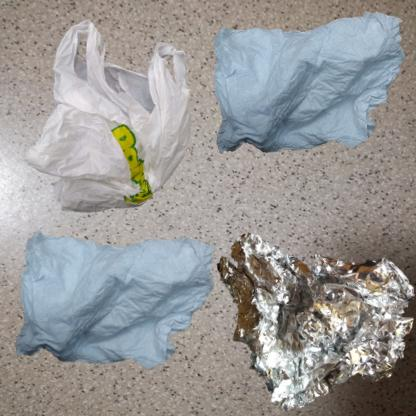aluminio: (213, 213, 416, 416)
bolsa: (10, 10, 235, 262)
papel: (10, 213, 229, 388), (213, 10, 406, 154)
